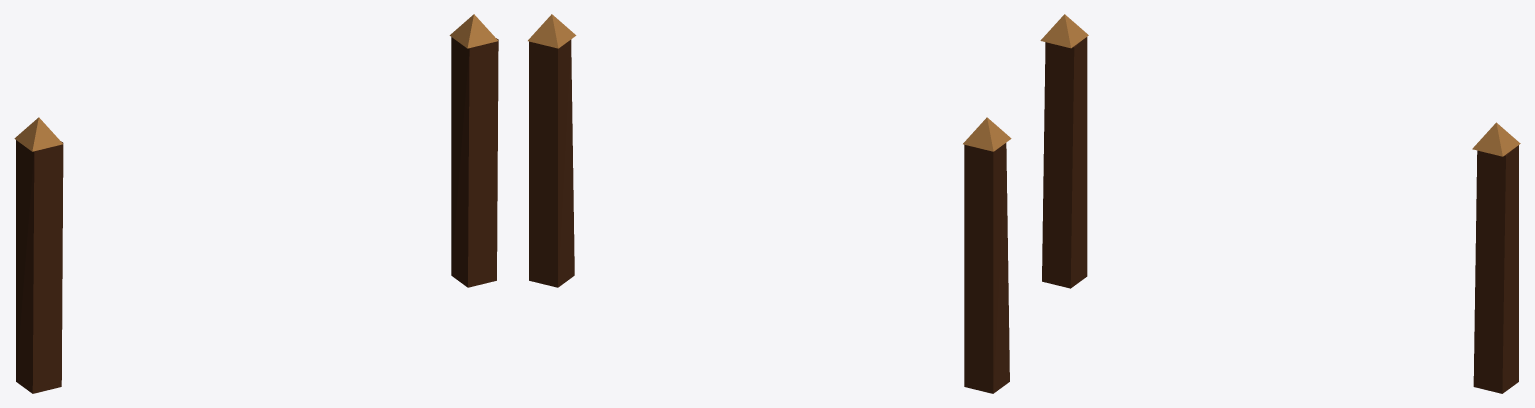
Rendered from fence_gate_posts_3m.obj.
The picture shows the model from 3 angles, left to right: view 1: azimuth 30°, elevation 25°; view 2: azimuth 150°, elevation 25°; view 3: azimuth 330°, elevation 25°; orthographic projection.
Parts seen in each view (by area): view 1: post_left_shaft, post_right_shaft, post_right_cap, post_left_cap; view 2: post_left_shaft, post_right_shaft, post_right_cap, post_left_cap; view 3: post_left_shaft, post_right_shaft, post_right_cap, post_left_cap.
Part boxes in pixels (<box>): post_left_shaft: <box>16,140,63,393</box>; post_right_shaft: <box>451,37,498,287</box>; post_right_cap: <box>449,14,497,48</box>; post_left_cap: <box>14,117,62,151</box>; post_left_shaft: <box>964,143,1009,393</box>; post_right_shaft: <box>529,39,574,287</box>; post_right_cap: <box>528,14,576,48</box>; post_left_cap: <box>963,117,1011,151</box>; post_left_shaft: <box>1042,37,1087,288</box>; post_right_shaft: <box>1473,145,1518,393</box>; post_right_cap: <box>1472,122,1520,156</box>; post_left_cap: <box>1040,14,1088,48</box>.
Size of the model in its own units: 3.23 by 1.76 by 0.215.
